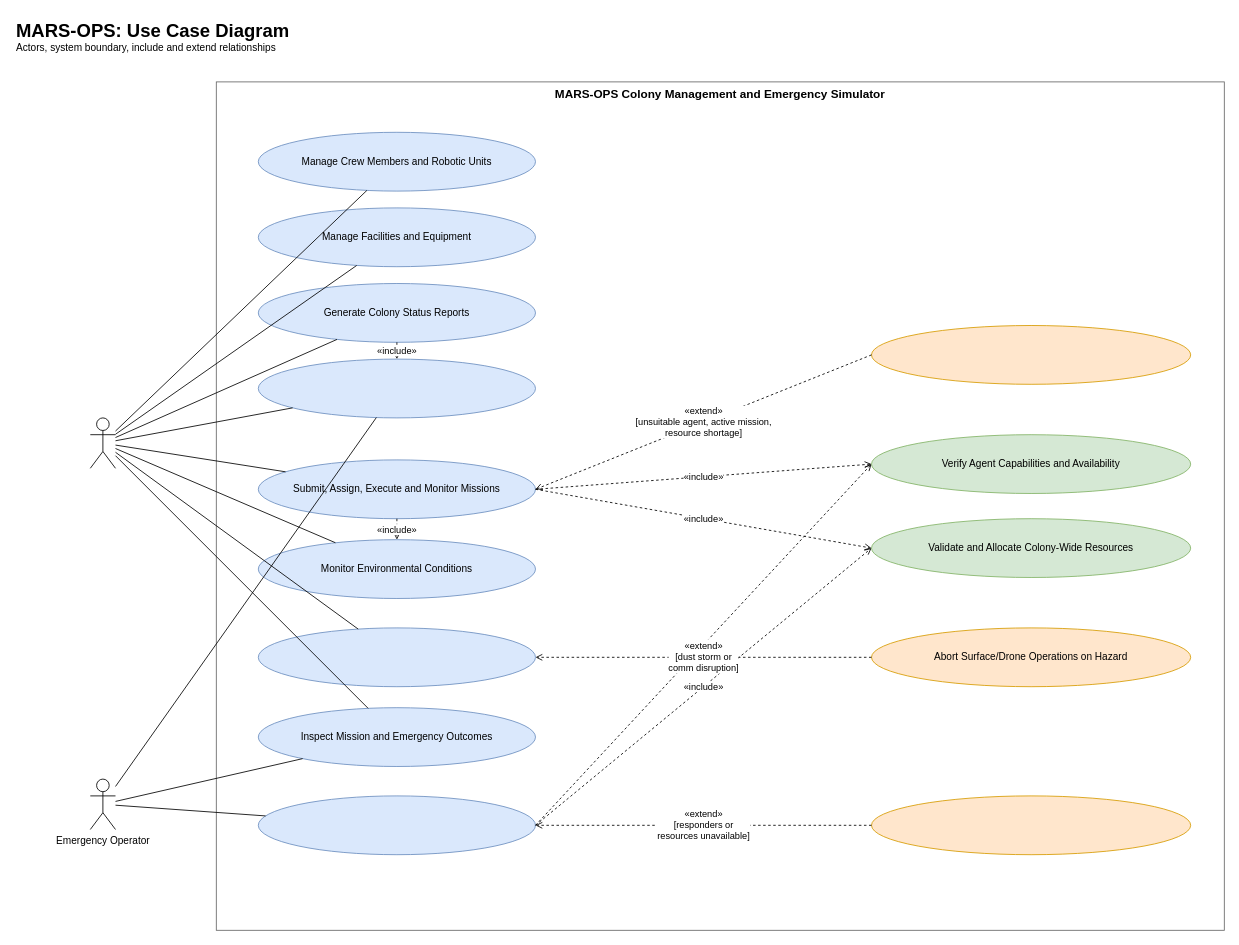
This 1239x945 diagram has some shape labels left out. The centre of each missing label's shape, as x and y in pixels:
"Advance Simulation Time" goes at point 396,657.
"Apply Double Oxygen Loss on Unresolved Leak" goes at point 1031,825.
"Colony Operator" goes at point 102,442.
"Monitor Resources" goes at point 396,388.
"Reject Mission and Record Failure Reason" goes at point 1031,354.
"Trigger and Handle Emergencies" goes at point 396,825.
